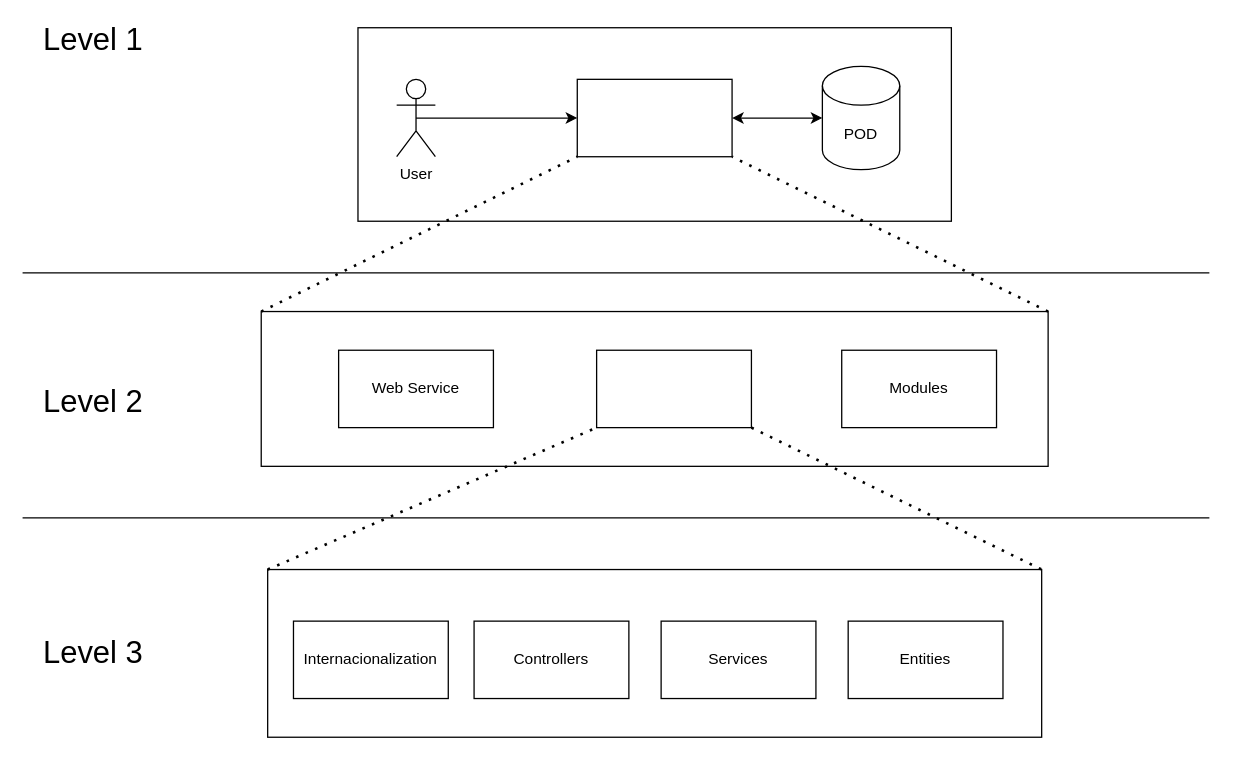
The diagram is 1233 pixels wide and 760 high, and some of its shapes have lost their labels. Each missing label, with the centre of its shape:
"Aplication" goes at (x=673, y=388).
"Radarin" goes at (x=654, y=117).
